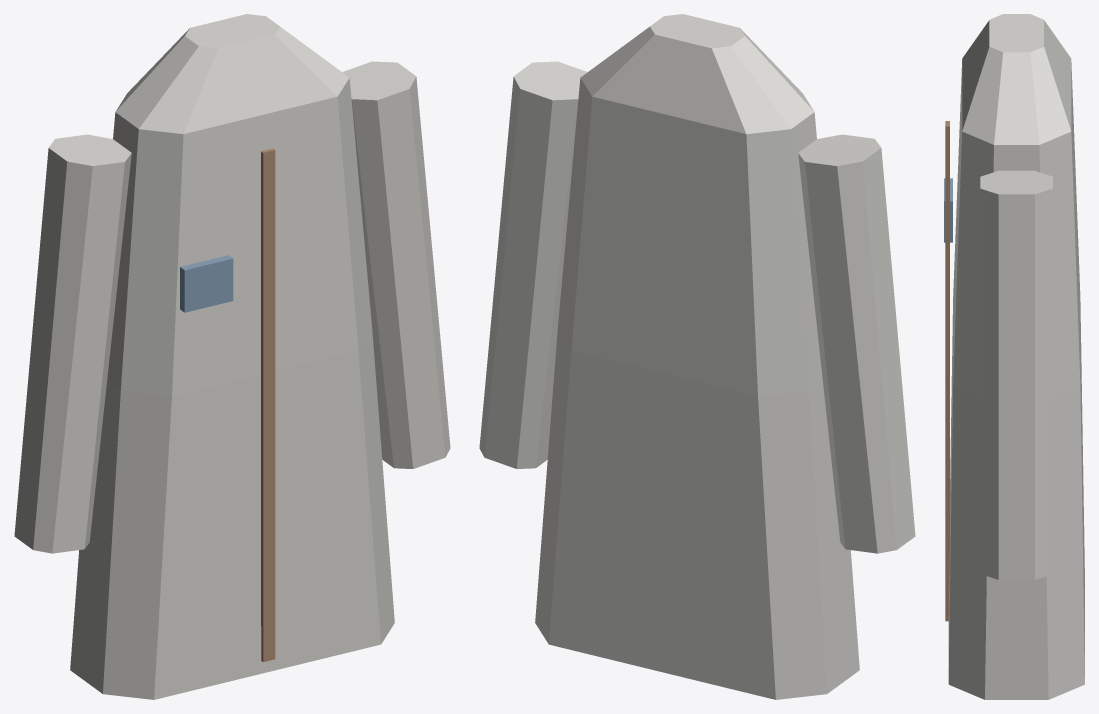
The model's file is lab_coat.glb.
The picture shows the model from 3 angles, left to right: view 1: azimuth 30°, elevation 25°; view 2: azimuth 150°, elevation 25°; view 3: azimuth 270°, elevation 25°; orthographic projection. The views are drawn at different scales.
Visible parts, largest first — view 1: lab_coat; view 2: lab_coat; view 3: lab_coat.
Part boxes in pixels (bbox=[...]): lab_coat: bbox=[14, 14, 450, 699]; lab_coat: bbox=[479, 14, 915, 699]; lab_coat: bbox=[944, 14, 1084, 699].
Size of the model in its own units: 1.03 by 1.45 by 0.31.
